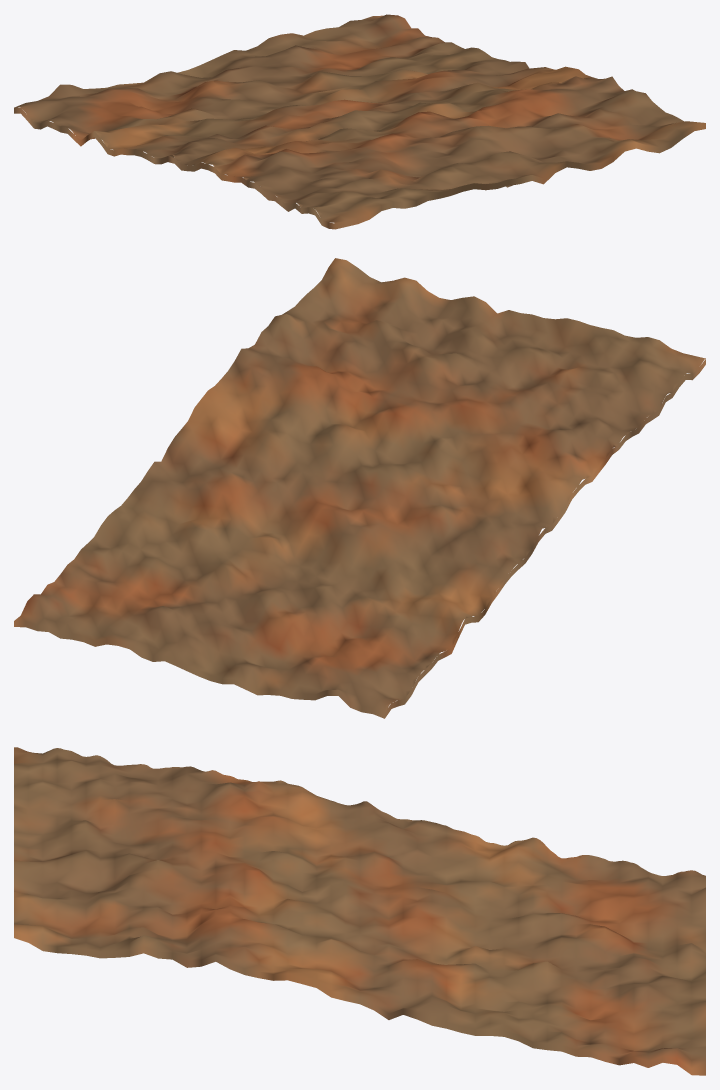
File: terrain-129.glb
3 views of the same model, one above another, from view 1: azimuth 30°, elevation 25°; view 2: azimuth 150°, elevation 25°; view 3: azimuth 270°, elevation 25° (orthographic). The views are drawn at different scales.
Visible parts, largest first — view 1: terrain-129; view 2: terrain-129; view 3: terrain-129.
Part boxes in pixels (x1,y1,x2,y2): terrain-129: (14, 14, 705, 229); terrain-129: (14, 258, 705, 718); terrain-129: (14, 747, 705, 1075).
Bounding box in the file's own units: 256 × 94.6 × 384.
